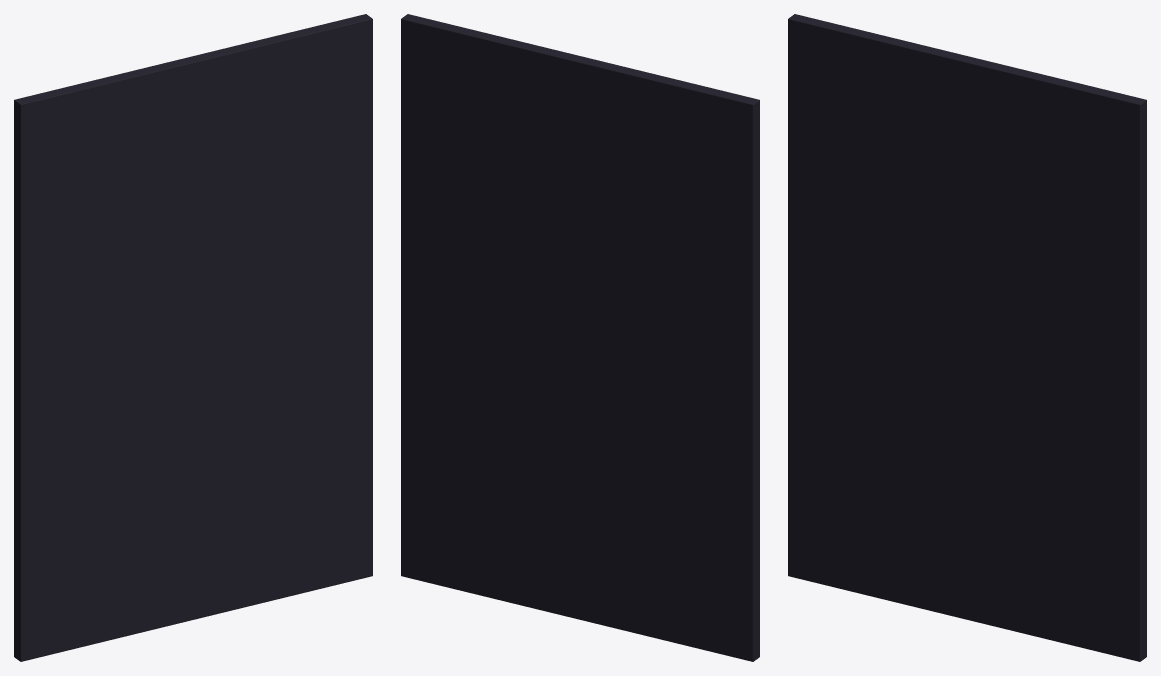
The model's file is SM_Kitchen_Island_Cover_04.dae.
3 renders of one model, left to right at view 1: azimuth 30°, elevation 25°; view 2: azimuth 150°, elevation 25°; view 3: azimuth 330°, elevation 25°, orthographic.
Visible parts, largest first — view 1: SM_Kitchen_Island_Cover_03; view 2: SM_Kitchen_Island_Cover_03; view 3: SM_Kitchen_Island_Cover_03.
Part boxes in pixels (x1,y1,x2,y2): SM_Kitchen_Island_Cover_03: [14, 14, 372, 661]; SM_Kitchen_Island_Cover_03: [401, 14, 759, 661]; SM_Kitchen_Island_Cover_03: [788, 14, 1146, 661].
Bounding box in the file's own units: 0.5939 × 0.02 × 0.8979.
Materials: 1 (1 with a texture image).
